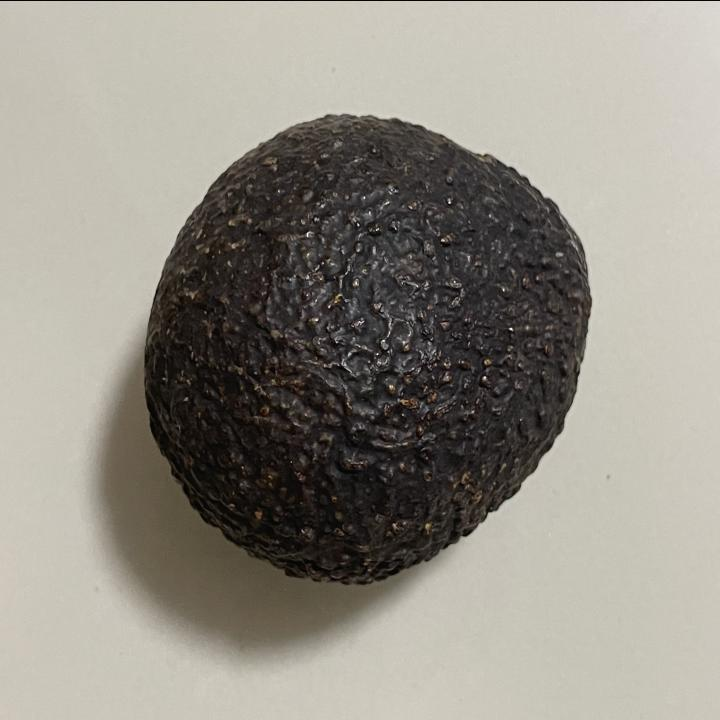Level3: (136, 101, 602, 596)
